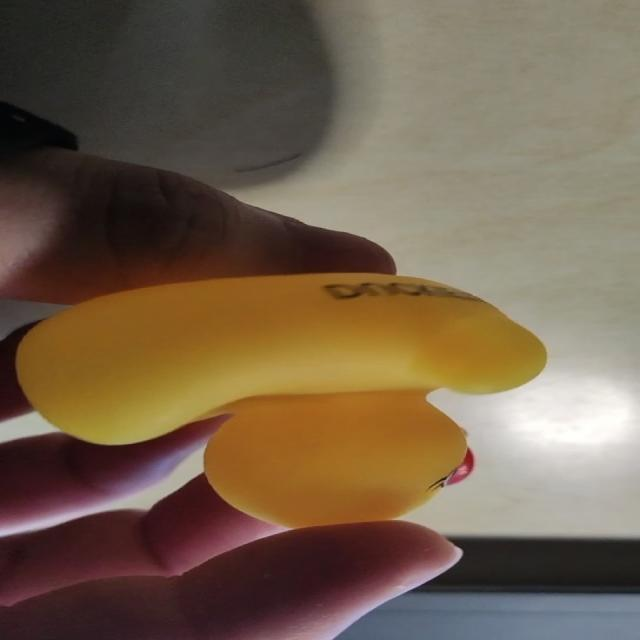rubber-duck: (15, 272, 545, 525)
